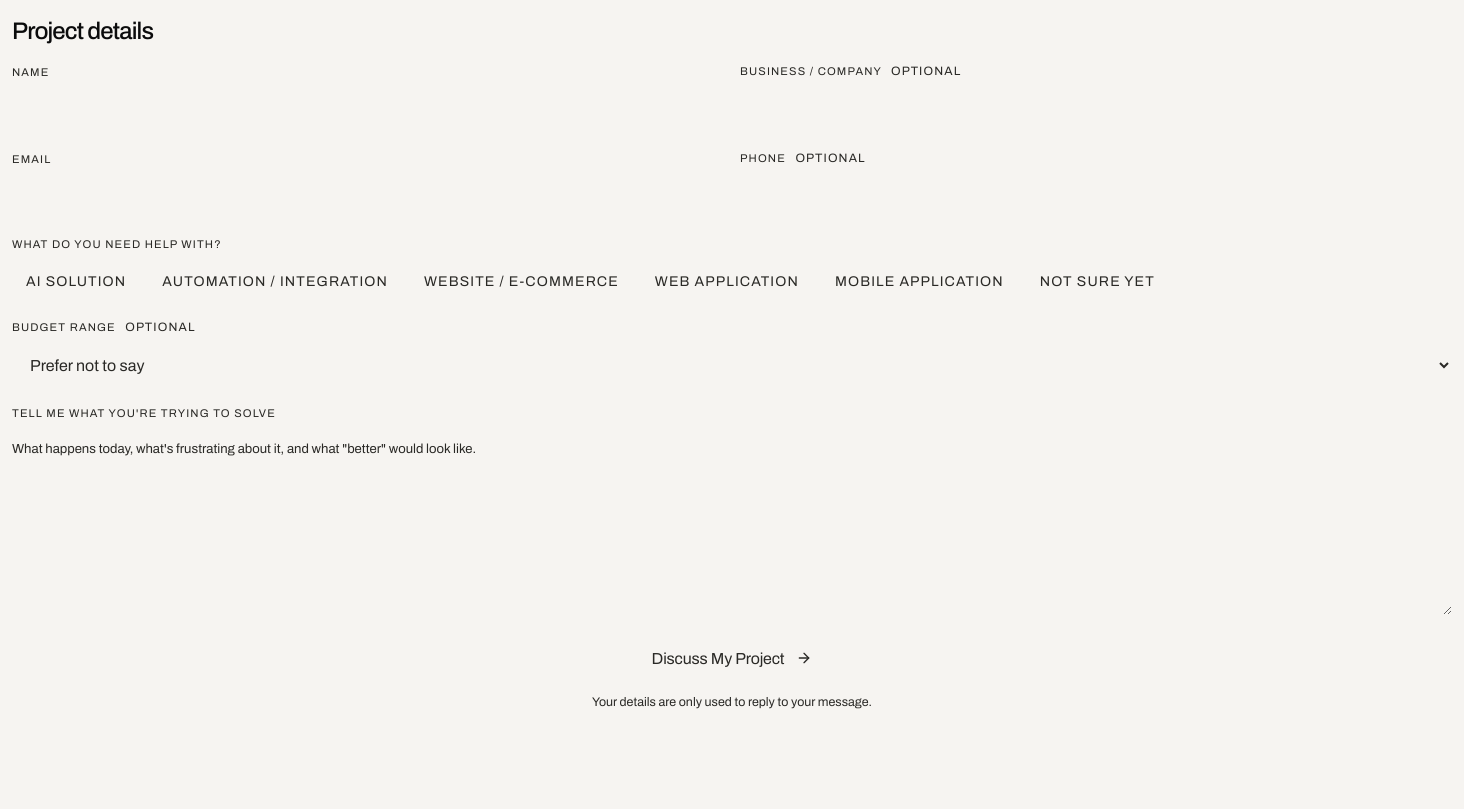
en uses its own plural form in the error summary
This screenshot has width=1464, height=809.
Click the button "Discuss My Project" at point(732, 658), box [12, 633, 1452, 683]
(page scrolled)
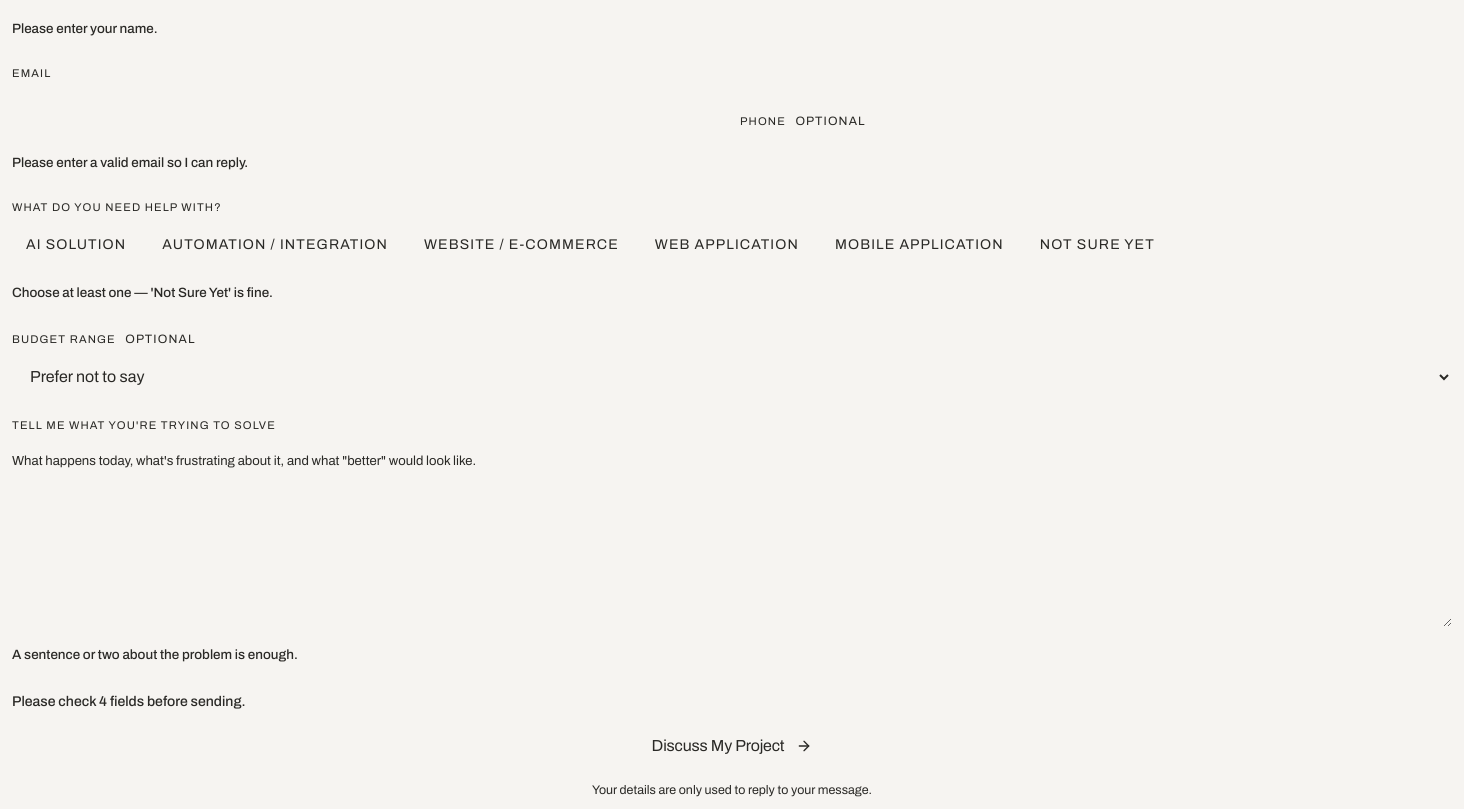
Check: the message reads "Please check 4 fields before sending.", box [12, 694, 246, 709]
